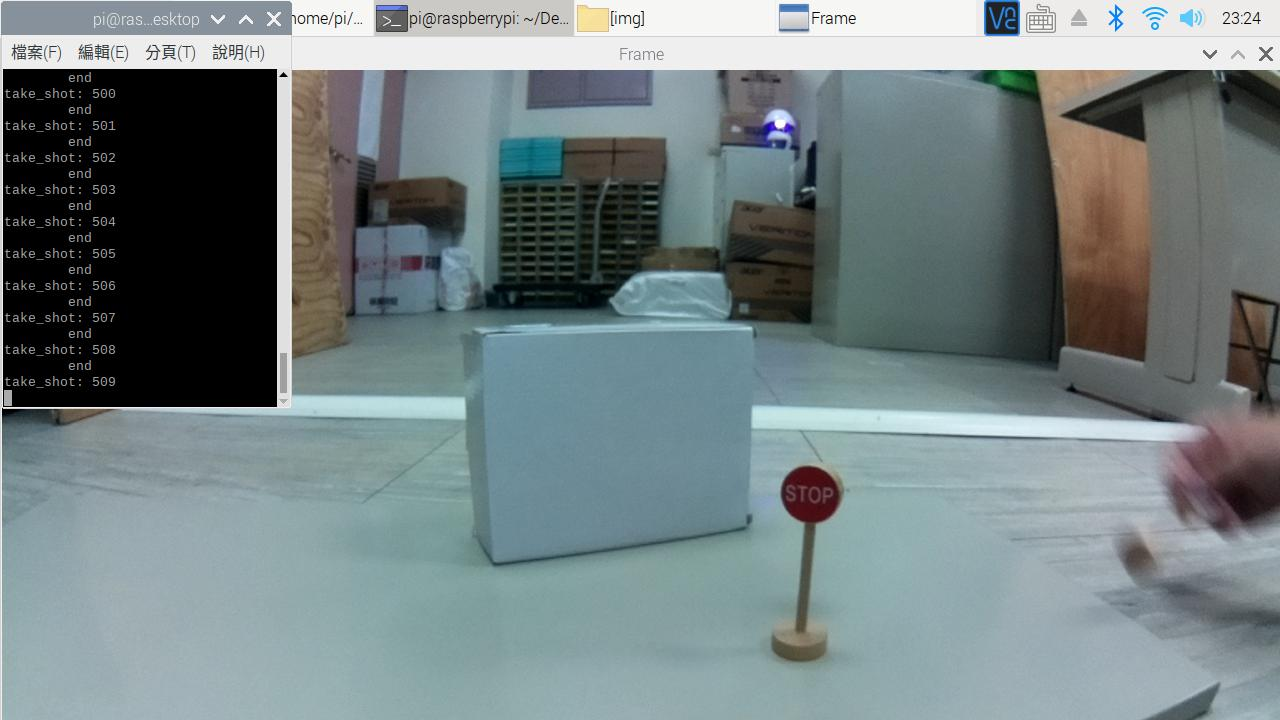Stop: (773, 459, 853, 539)
